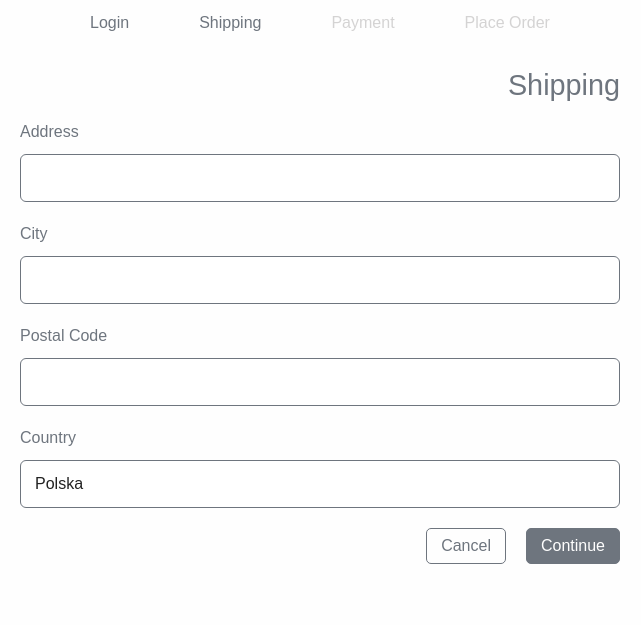
Shipping page › shows validation error when city is empty and touched
This screenshot has width=641, height=625.
Clear the field labelled "City" at (320, 280), box [20,256,620,304]
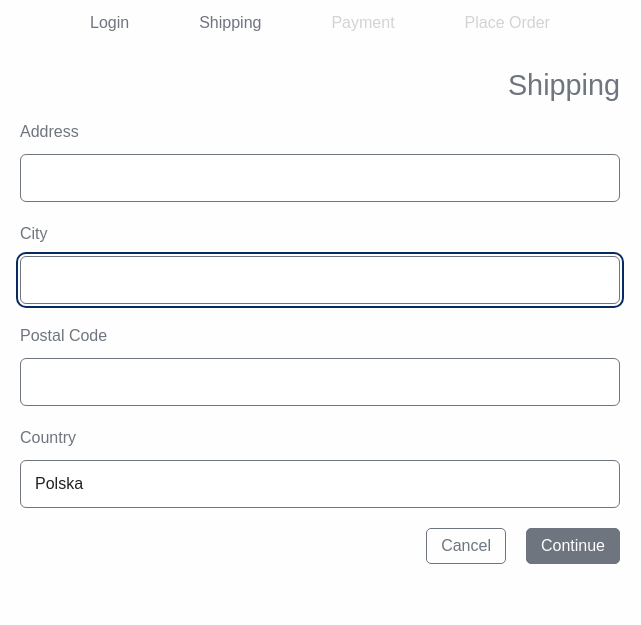
Press Tab
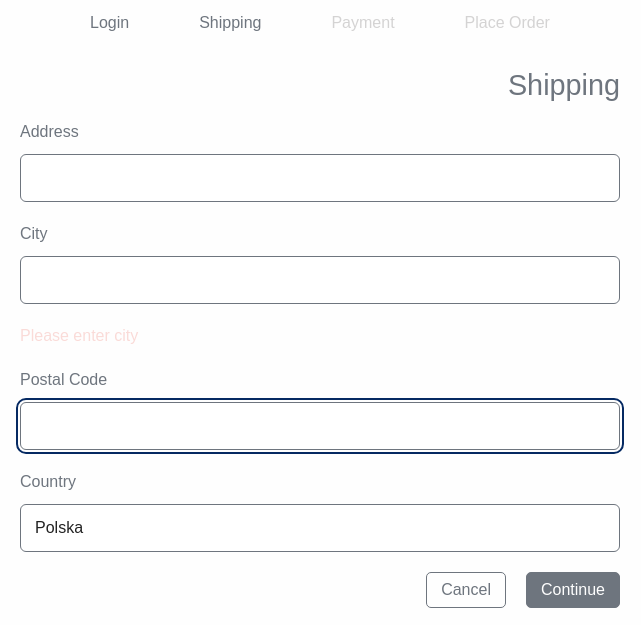
Expected: the text "Please enter city" is shown, [20,327,138,344]
